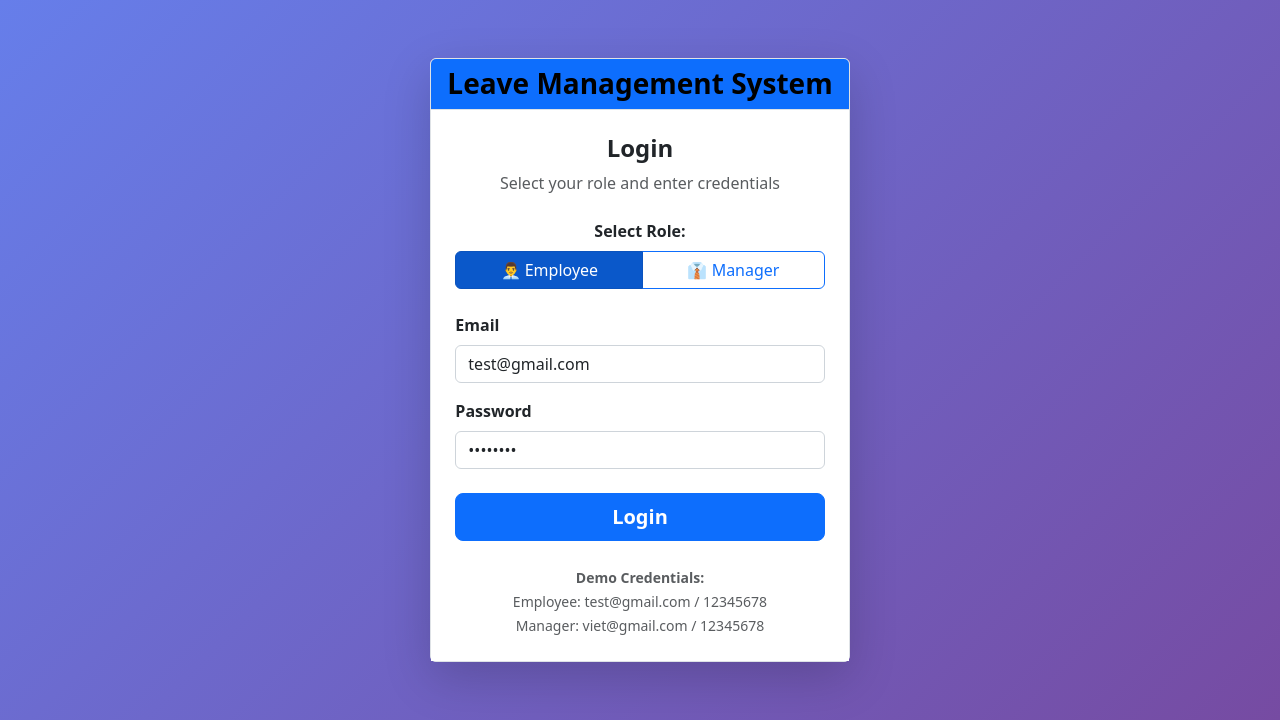
Test: LoginPage Component › switches to manager role and updates credentials
What coordinates should you click on to do the following:
click the text "👔 Manager"
I would click on:
 (734, 270)
Its box is [642, 251, 825, 289].
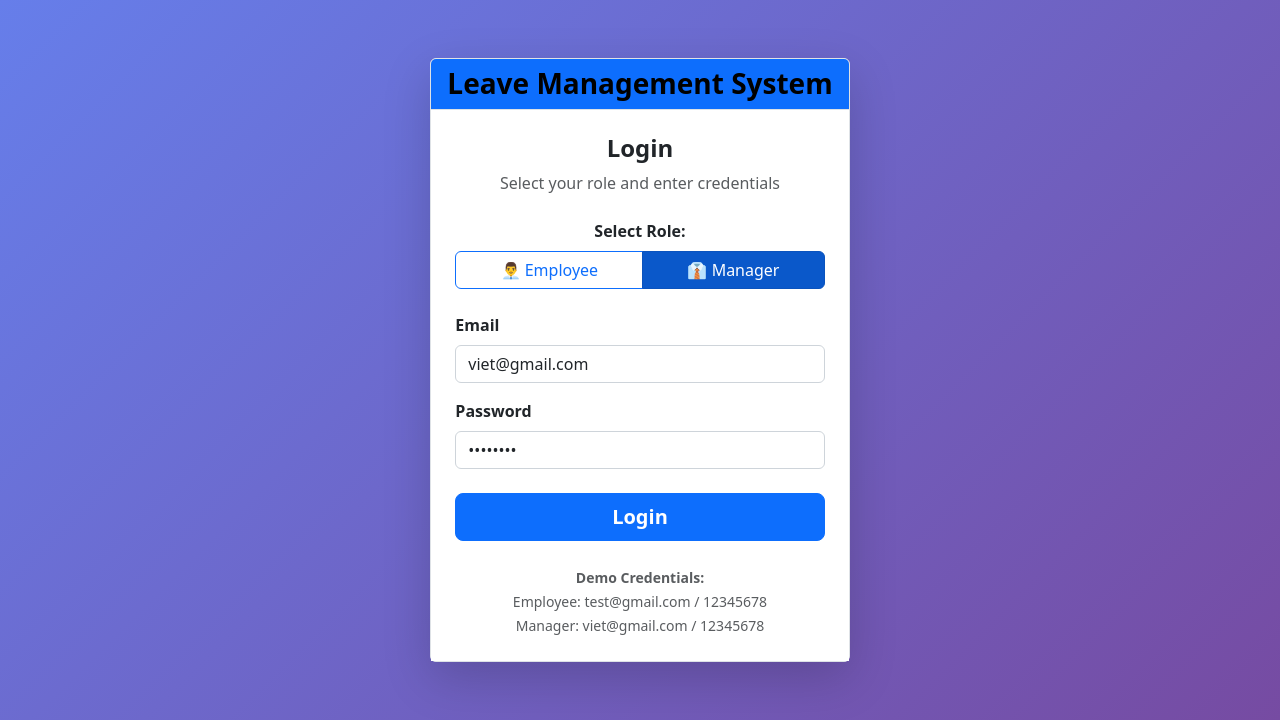
Expected: the password field showing "12345678" is shown, [455, 431, 825, 469]
Expected: the field showing "viet@gmail.com" is shown, [455, 345, 825, 383]
